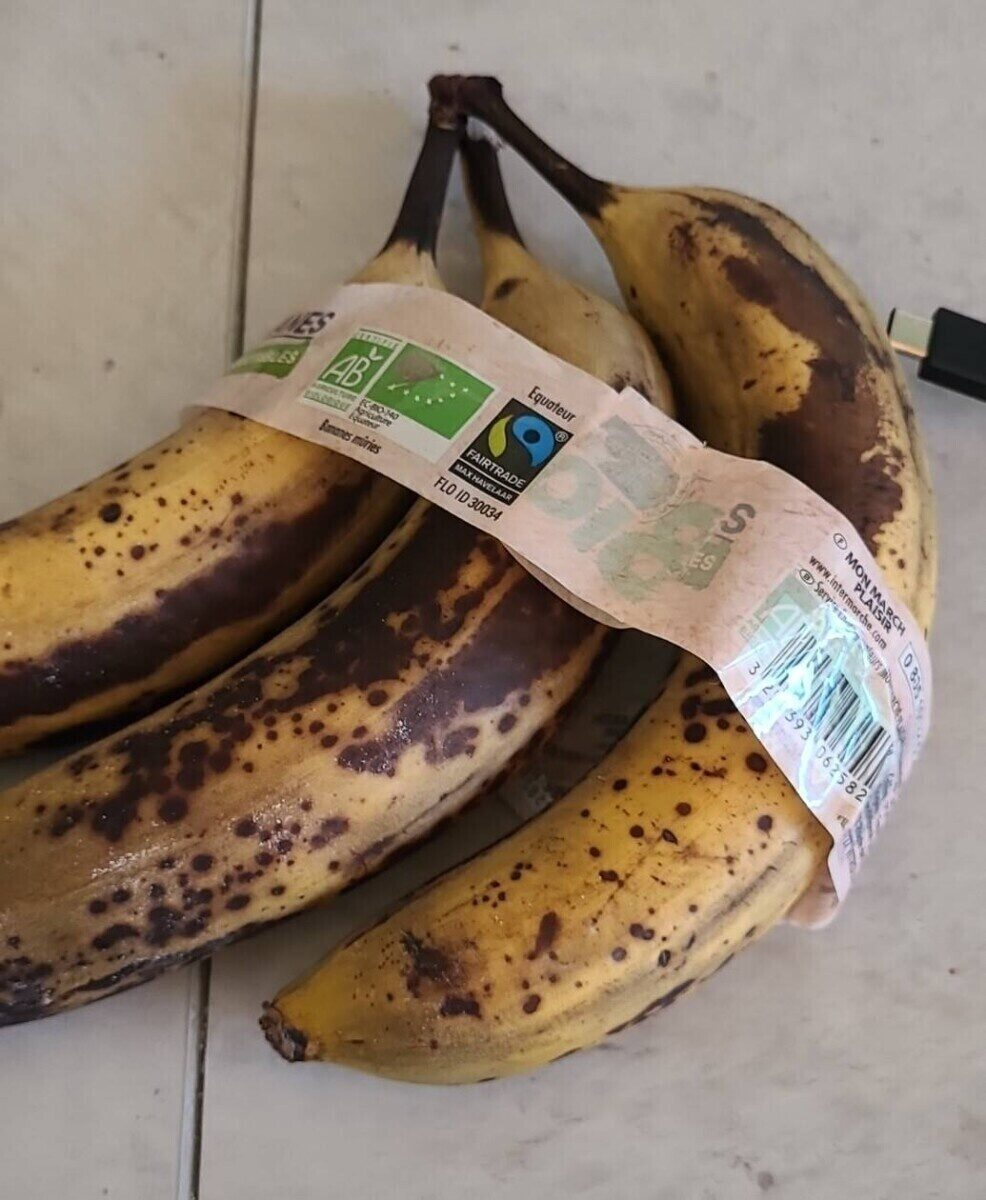Banane BIO: (49, 60, 937, 1140)
